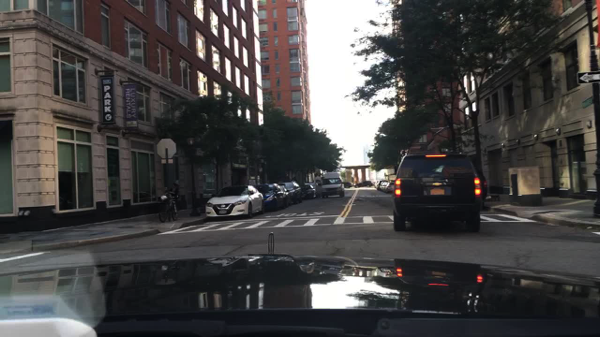bike: (157, 192, 181, 222)
car: (392, 152, 486, 232), (205, 184, 265, 222), (254, 184, 283, 211), (320, 177, 345, 198), (279, 183, 302, 204), (275, 183, 291, 208), (300, 184, 316, 199), (308, 182, 322, 198), (354, 179, 372, 189), (376, 179, 386, 191), (386, 183, 396, 192), (343, 182, 353, 189), (380, 183, 387, 192), (374, 181, 379, 190), (373, 181, 377, 187)
rider: (165, 181, 179, 215)
traffic sign: (157, 139, 177, 159), (577, 70, 599, 84), (582, 94, 599, 108), (161, 159, 173, 163)
